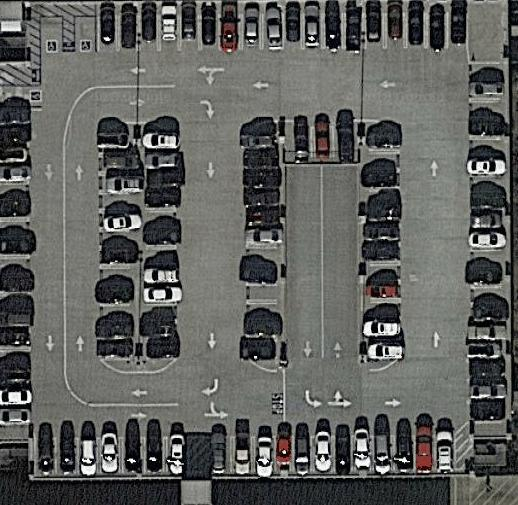parkingspot: (95, 0, 468, 54), (465, 60, 513, 439), (0, 83, 45, 444), (209, 427, 456, 478), (137, 120, 183, 359), (237, 133, 284, 361), (95, 121, 139, 360), (358, 131, 403, 358), (32, 431, 186, 479), (282, 115, 360, 166), (38, 14, 64, 55), (73, 13, 98, 55)
